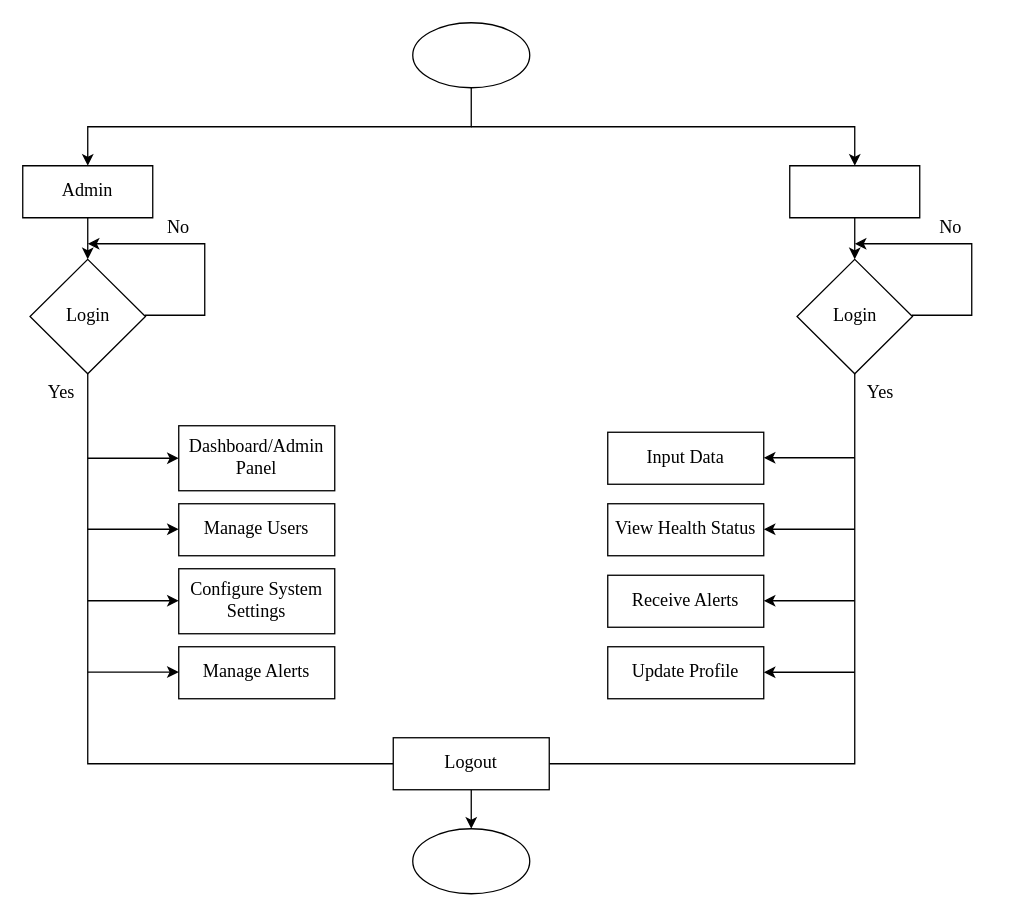
This 1013x916 diagram has some shape labels left out. The shapes that lost their labels are listed below. From the top down, each one's box as (x1, y1, x2, y2) in pixels, then its label:
(411, 21, 530, 88): Start
(788, 164, 920, 218): User
(411, 827, 530, 894): Stop
